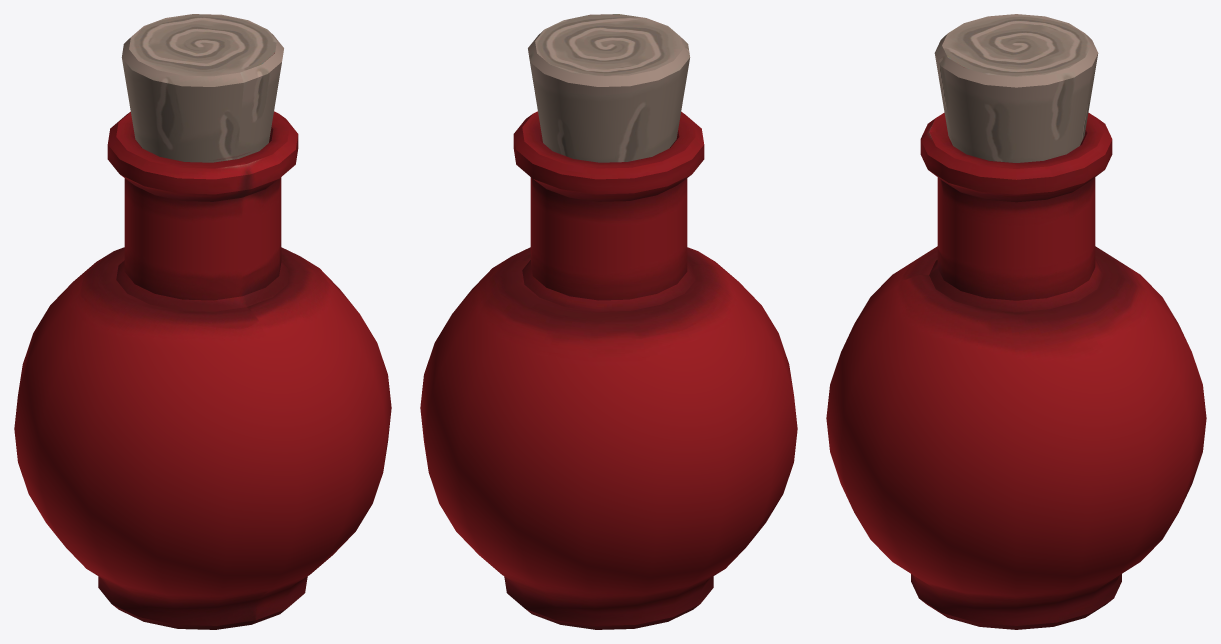
The model's file is RedPotion.fbx.
The picture shows the model from 3 angles, left to right: view 1: azimuth 30°, elevation 25°; view 2: azimuth 150°, elevation 25°; view 3: azimuth 270°, elevation 25°; orthographic projection.
Visible parts, largest first — view 1: RedPotion; view 2: RedPotion; view 3: RedPotion.
Boxes of the visible parts, x1,y1,x2,y2 form: RedPotion: (14, 14, 391, 629); RedPotion: (420, 14, 797, 629); RedPotion: (826, 14, 1206, 629).
Size of the model in its own units: 40 by 40 by 63.09.
1 material, 1 textured.
